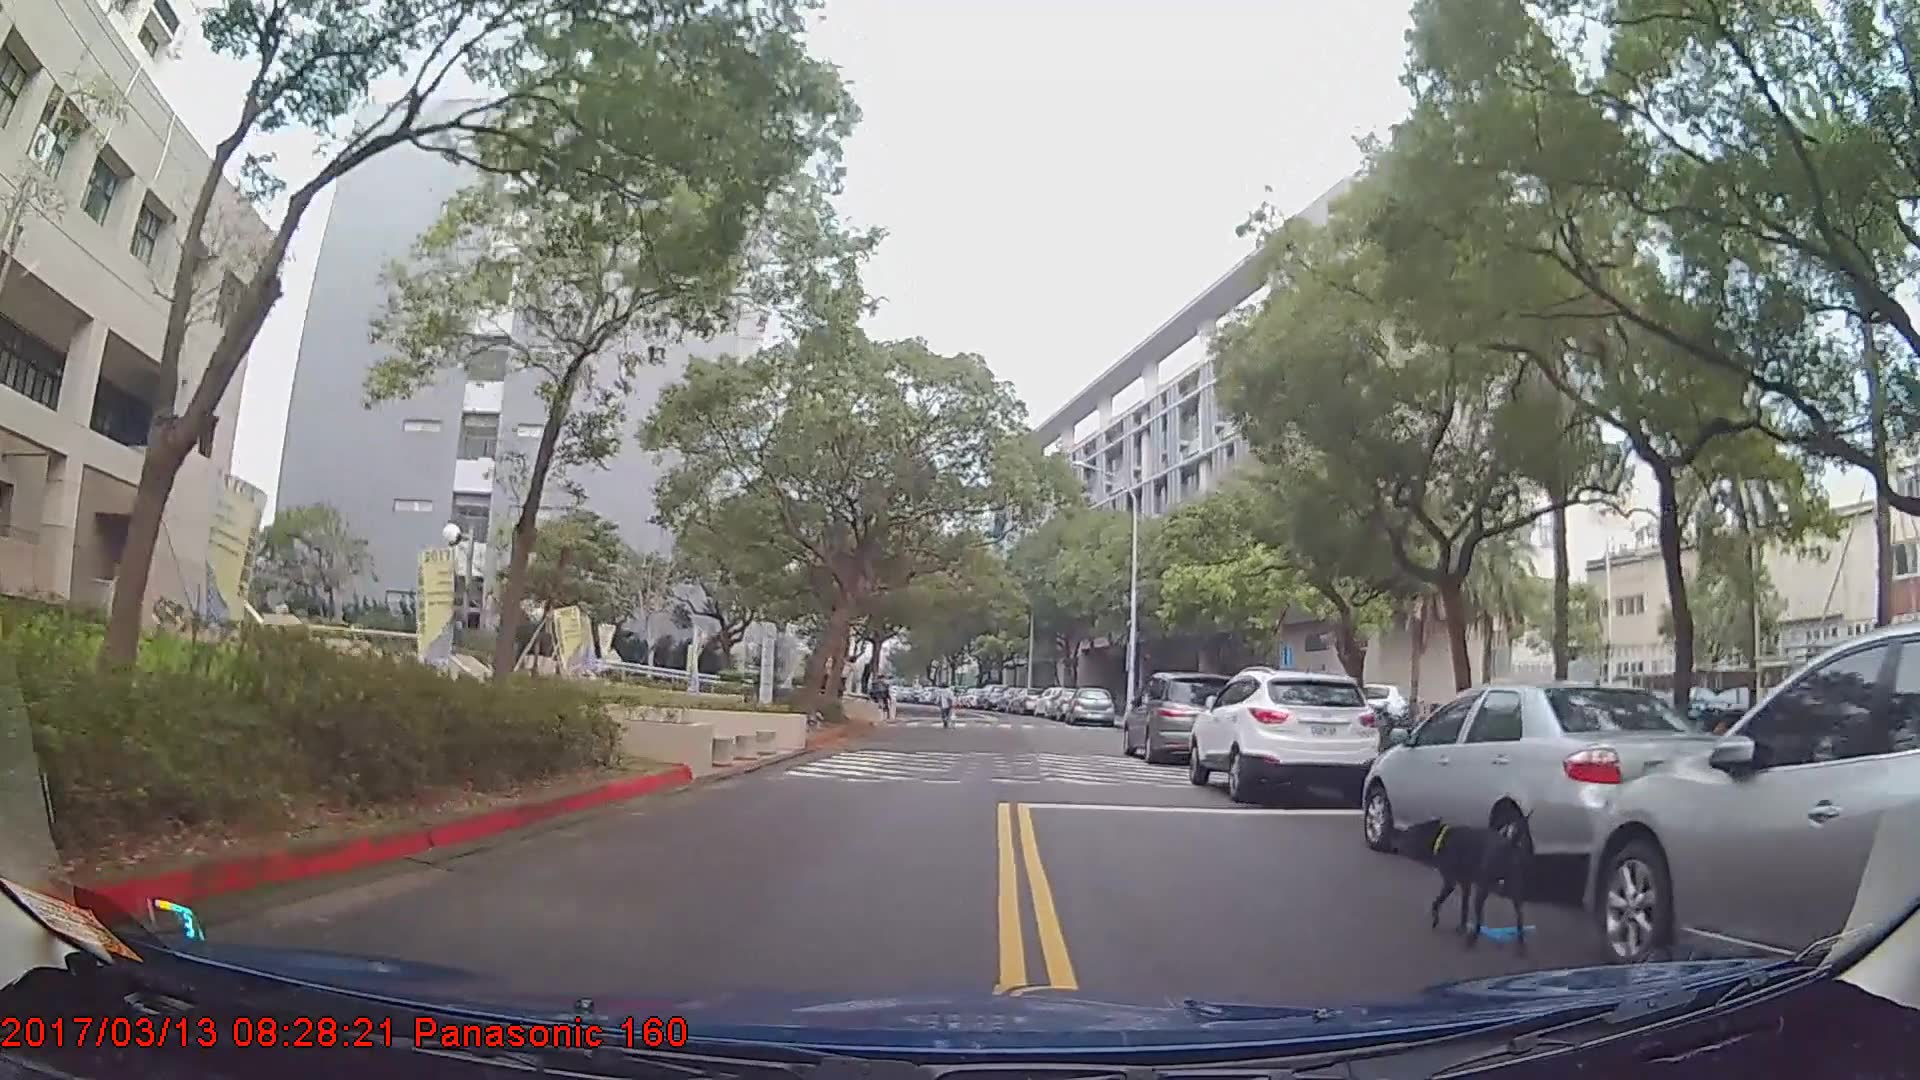pedestrian: (932, 683, 957, 733)
vehicle: (1588, 625, 1920, 989), (1362, 679, 1735, 887), (1186, 666, 1383, 805), (1122, 670, 1248, 761), (1065, 682, 1112, 726), (977, 682, 1009, 711)
